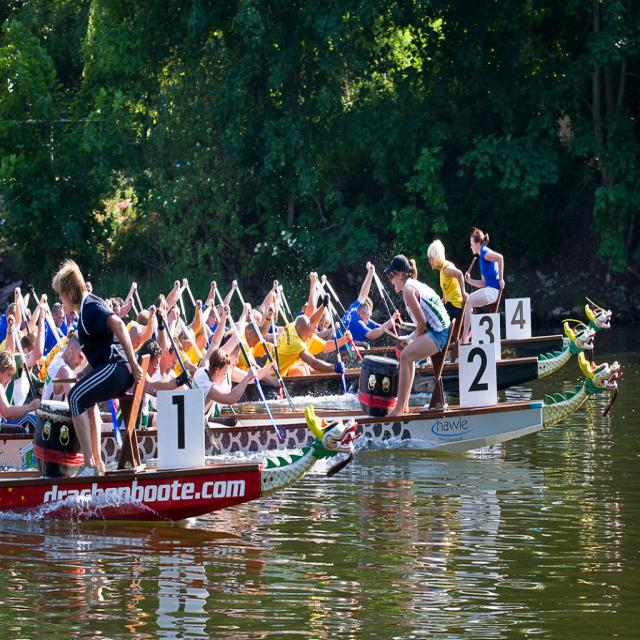Boat: (0, 269, 620, 462)
